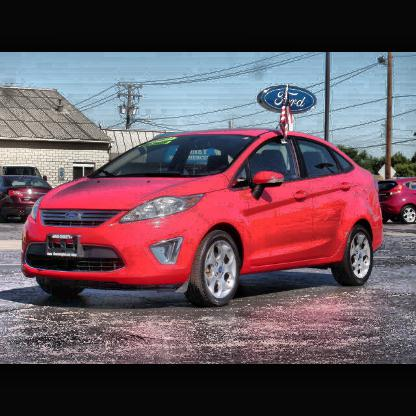Ford Fiesta Sedan 2012: (18, 128, 386, 307)
